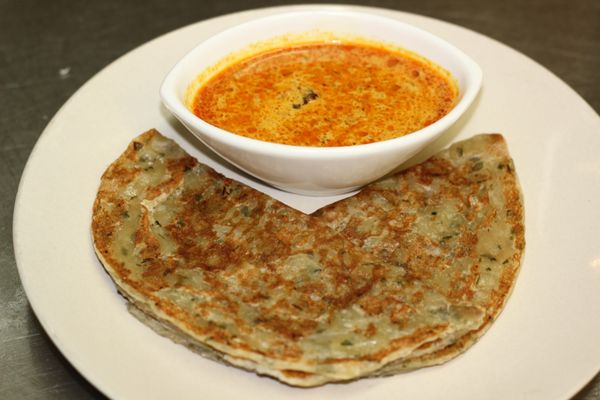sushi: (159, 5, 484, 197)
